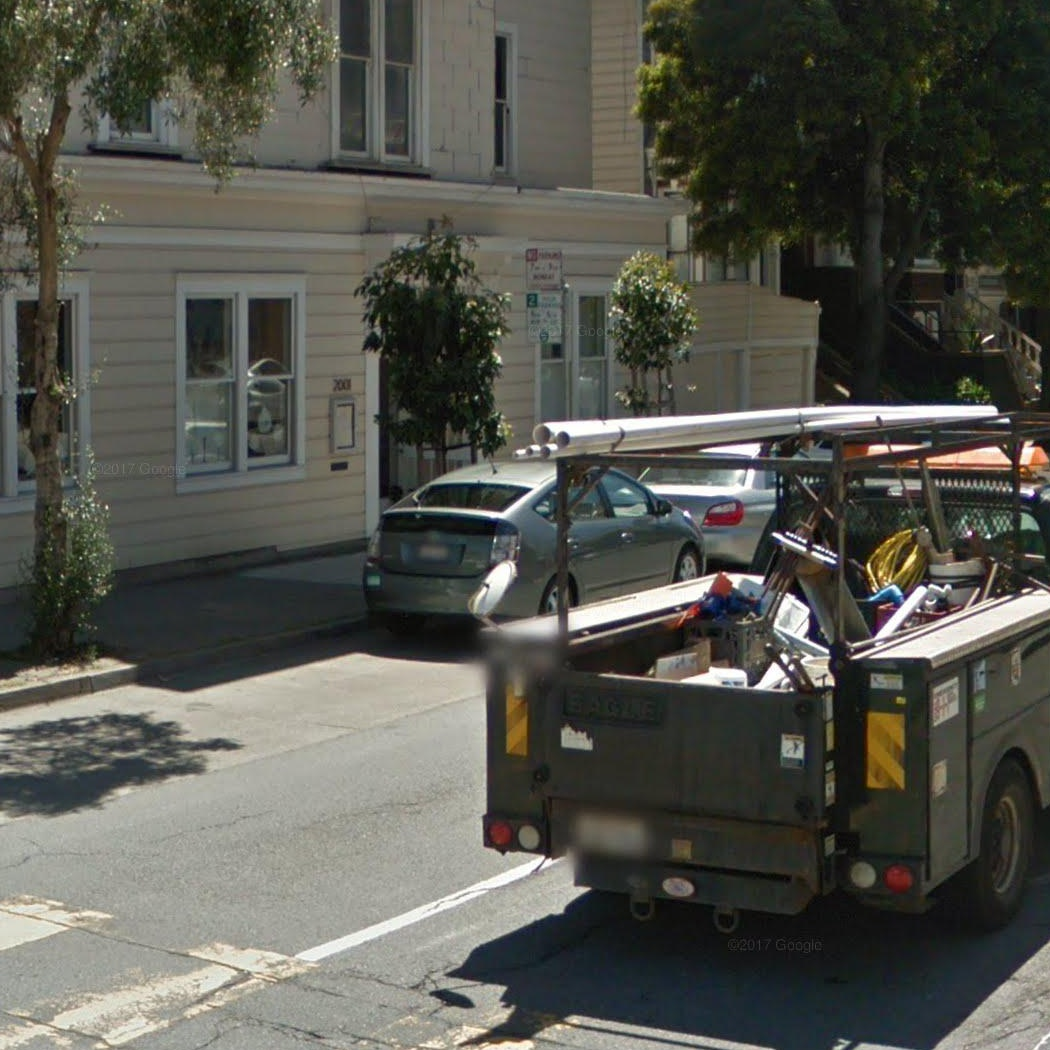2 Hour Parking: (523, 292, 566, 347)
No Parking: (522, 245, 567, 292)
